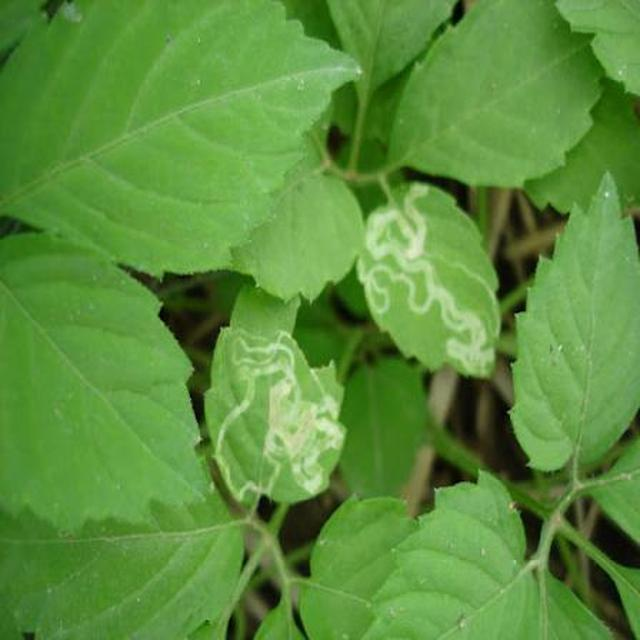Leaf Miner: (217, 289, 614, 589)
